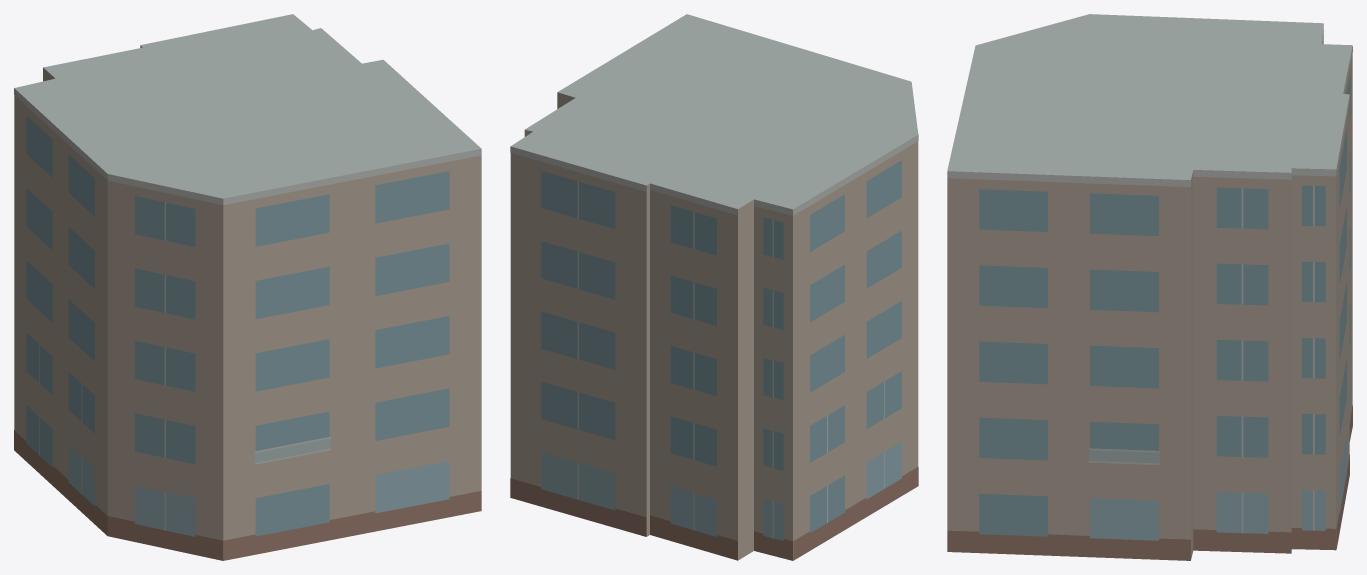
File: survey-upis-32680880.glb
3 views of the same model, side by side, from view 1: azimuth 30°, elevation 25°; view 2: azimuth 150°, elevation 25°; view 3: azimuth 270°, elevation 25° (orthographic). The views are drawn at different scales.
Parts seen in each view (by area): view 1: survey-upis-32680880.tmp; view 2: survey-upis-32680880.tmp; view 3: survey-upis-32680880.tmp.
Part boxes in pixels (left/top/right/bottom): survey-upis-32680880.tmp: left=14, top=14, right=481, bottom=560; survey-upis-32680880.tmp: left=510, top=14, right=918, bottom=560; survey-upis-32680880.tmp: left=947, top=14, right=1352, bottom=560.
Bounding box in the file's own units: 12.55 × 13.4 × 12.95.
